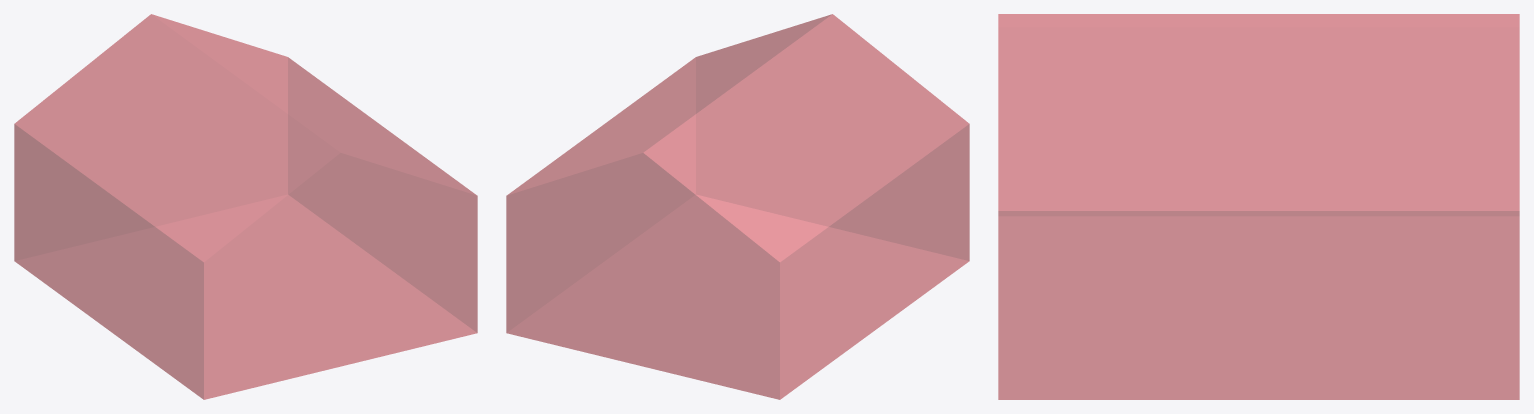
Rendered from barracks.gltf.
3 renders of one model, left to right at view 1: azimuth 30°, elevation 25°; view 2: azimuth 150°, elevation 25°; view 3: azimuth 270°, elevation 25°, orthographic. The views are drawn at different scales.
Parts seen in each view (by area): view 1: Cube; view 2: Cube; view 3: Cube.
Boxes of the visible parts, box(x1,y1,x2,y2) form: Cube: box(14, 14, 477, 399); Cube: box(506, 14, 969, 399); Cube: box(998, 14, 1519, 399).
Size of the model in its own units: 25 by 18.67 by 30.
